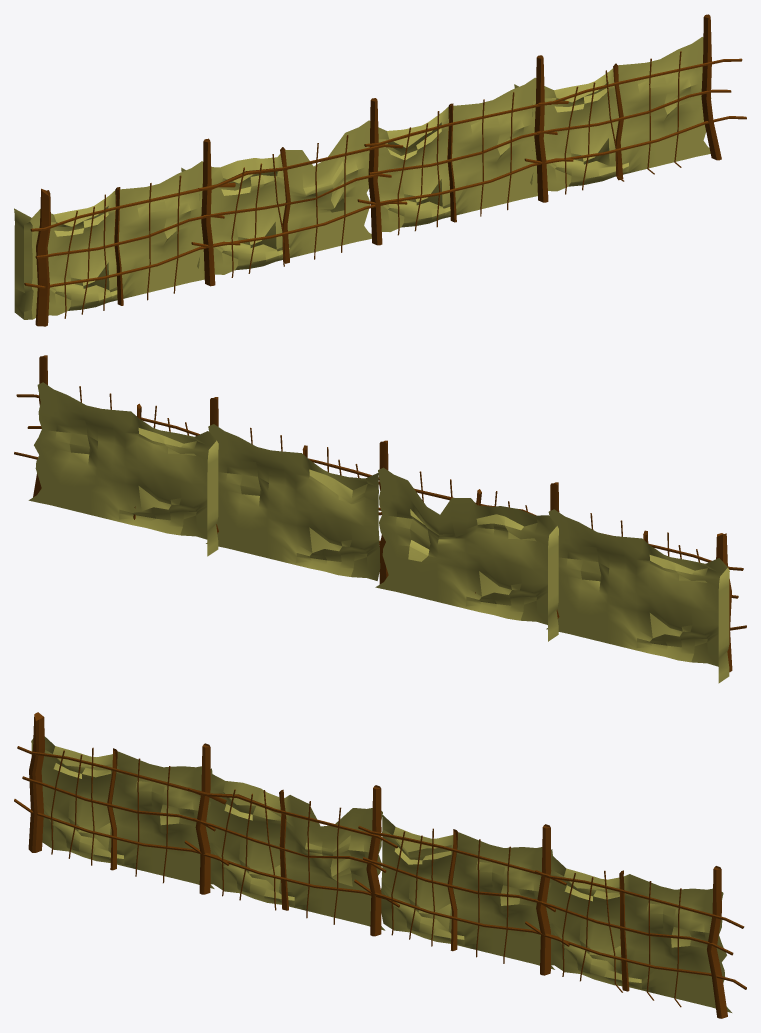
Rendered from Fence.fbx.
3 views of the same model, one above another, from view 1: azimuth 30°, elevation 25°; view 2: azimuth 150°, elevation 25°; view 3: azimuth 330°, elevation 25° (orthographic). The views are drawn at different scales.
Parts seen in each view (by area): view 1: Mesh; view 2: Mesh; view 3: Mesh.
Boxes of the visible parts, x1,y1,x2,y2 form: Mesh: (14, 14, 746, 326); Mesh: (14, 355, 746, 683); Mesh: (14, 712, 746, 1018).
Bounding box in the file's own units: 675 × 131 × 36.5.
